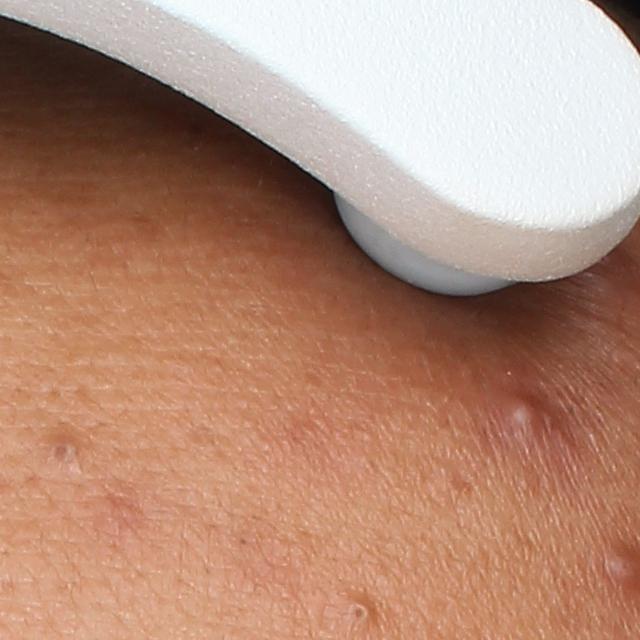comedo: (338, 595, 374, 638), (44, 433, 83, 472)
